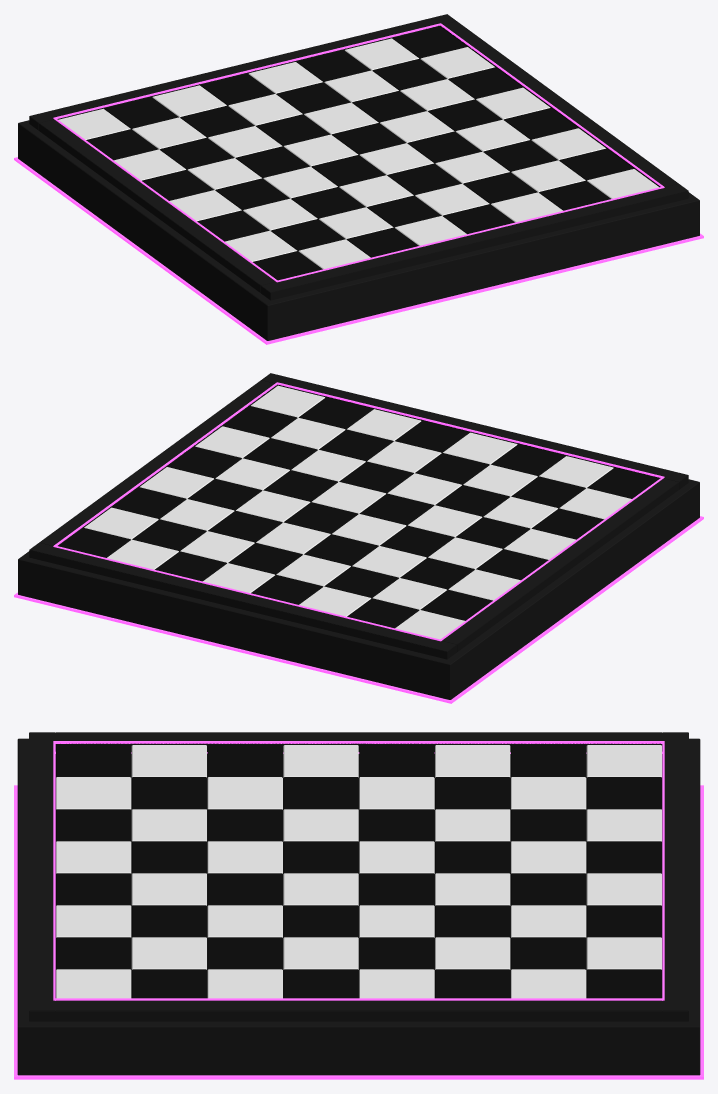
File: ArteModerno_Tablero.fbx
The picture shows the model from 3 angles, top to bottom: view 1: azimuth 30°, elevation 25°; view 2: azimuth 150°, elevation 25°; view 3: azimuth 270°, elevation 25°; orthographic projection. The views are drawn at different scales.
Visible parts, largest first — view 1: ArteModerno_Tablero; view 2: ArteModerno_Tablero; view 3: ArteModerno_Tablero.
Boxes of the visible parts, x1,y1,x2,y2 form: ArteModerno_Tablero: [14, 14, 703, 344]; ArteModerno_Tablero: [14, 373, 703, 703]; ArteModerno_Tablero: [14, 732, 703, 1079].
Size of the model in its own units: 9.1 by 0.94 by 9.1.
